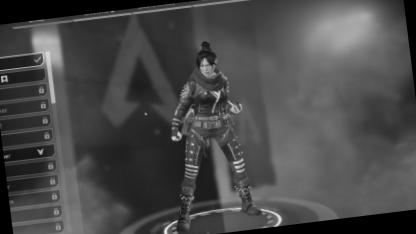Target: (172, 37, 241, 187)
